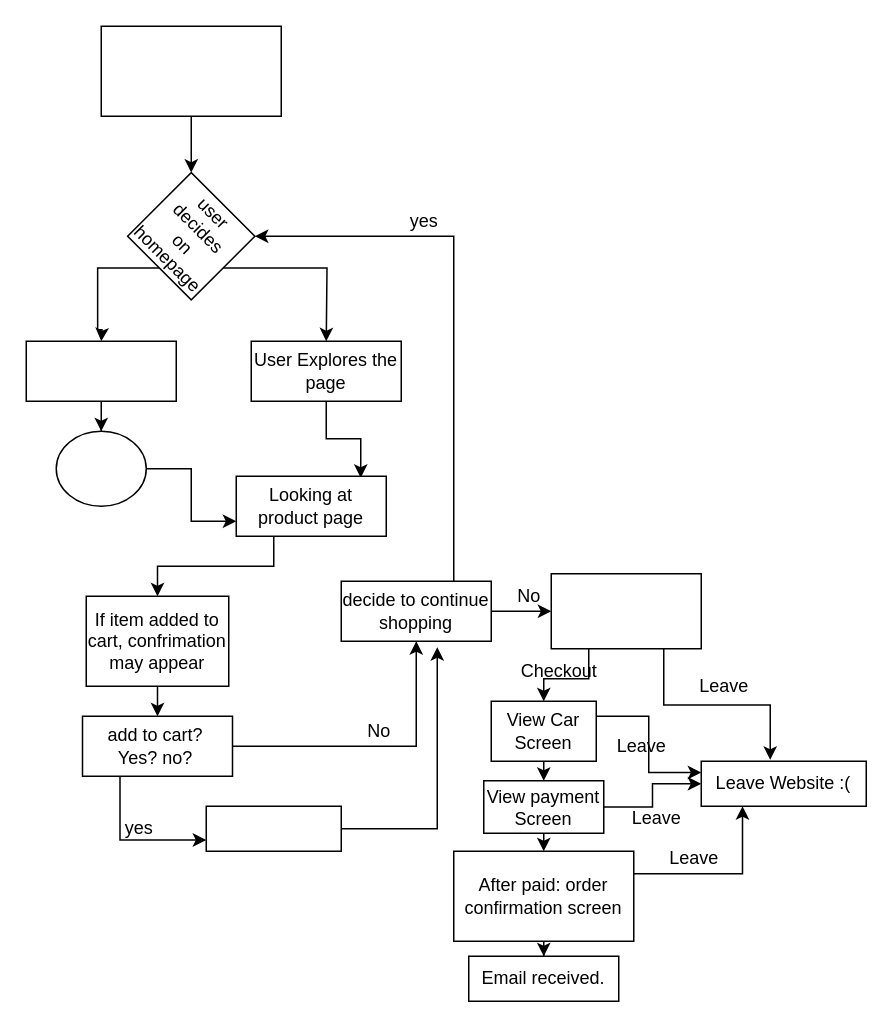
The diagram is 893 pixels wide and 1028 high, and some of its shapes have lost their labels. Each missing label, with the centre of its shape:
"Checkout? or Leave website" goes at [625,610].
"Item added." goes at [273,828].
"User enters website" goes at [190,70].
"User Input: ______" goes at [100,468].
"User Searches product" goes at [100,370].
